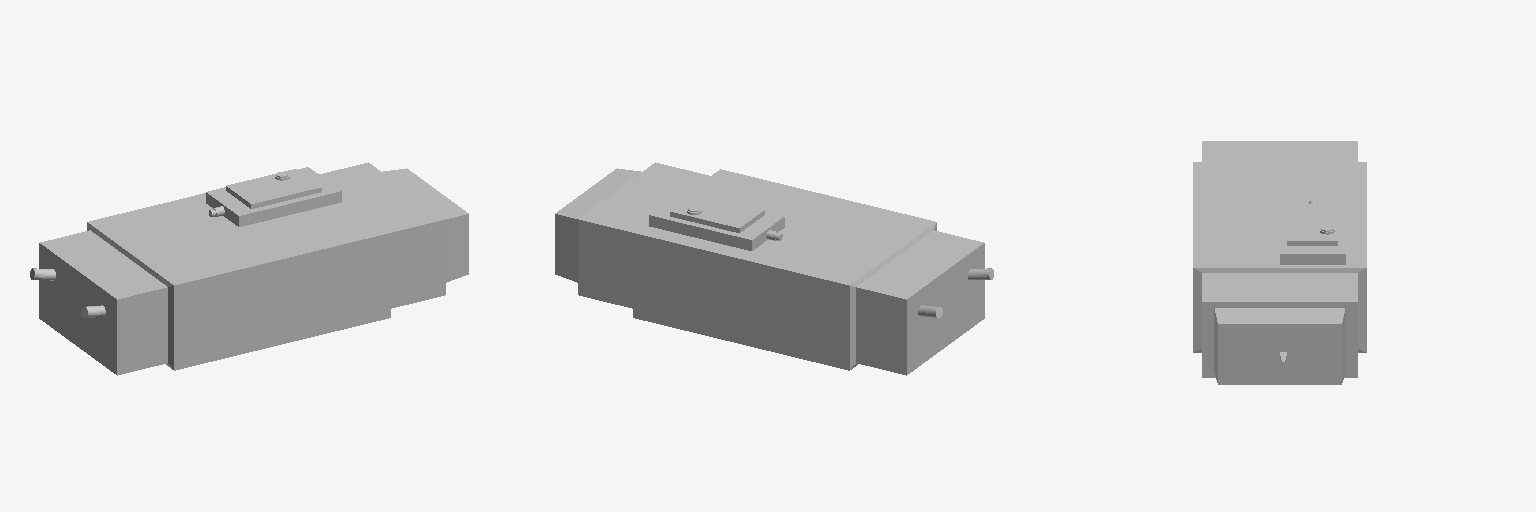
File: BOMBbox.obj
3 views of the same model, side by side, from view 1: azimuth 30°, elevation 25°; view 2: azimuth 150°, elevation 25°; view 3: azimuth 270°, elevation 25° (orthographic).
Parts seen in each view (by area): view 1: Cube; view 2: Cube; view 3: Cube.
Boxes of the visible parts, box(x1,y1,x2,y2) form: Cube: box(30, 162, 468, 375); Cube: box(555, 162, 993, 375); Cube: box(1193, 141, 1366, 384).
Bounding box in the file's own units: 8.92 × 2.25 × 3.39.